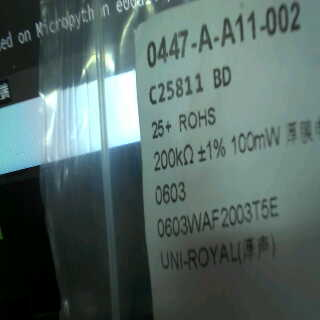200kR: (153, 143, 193, 177)
